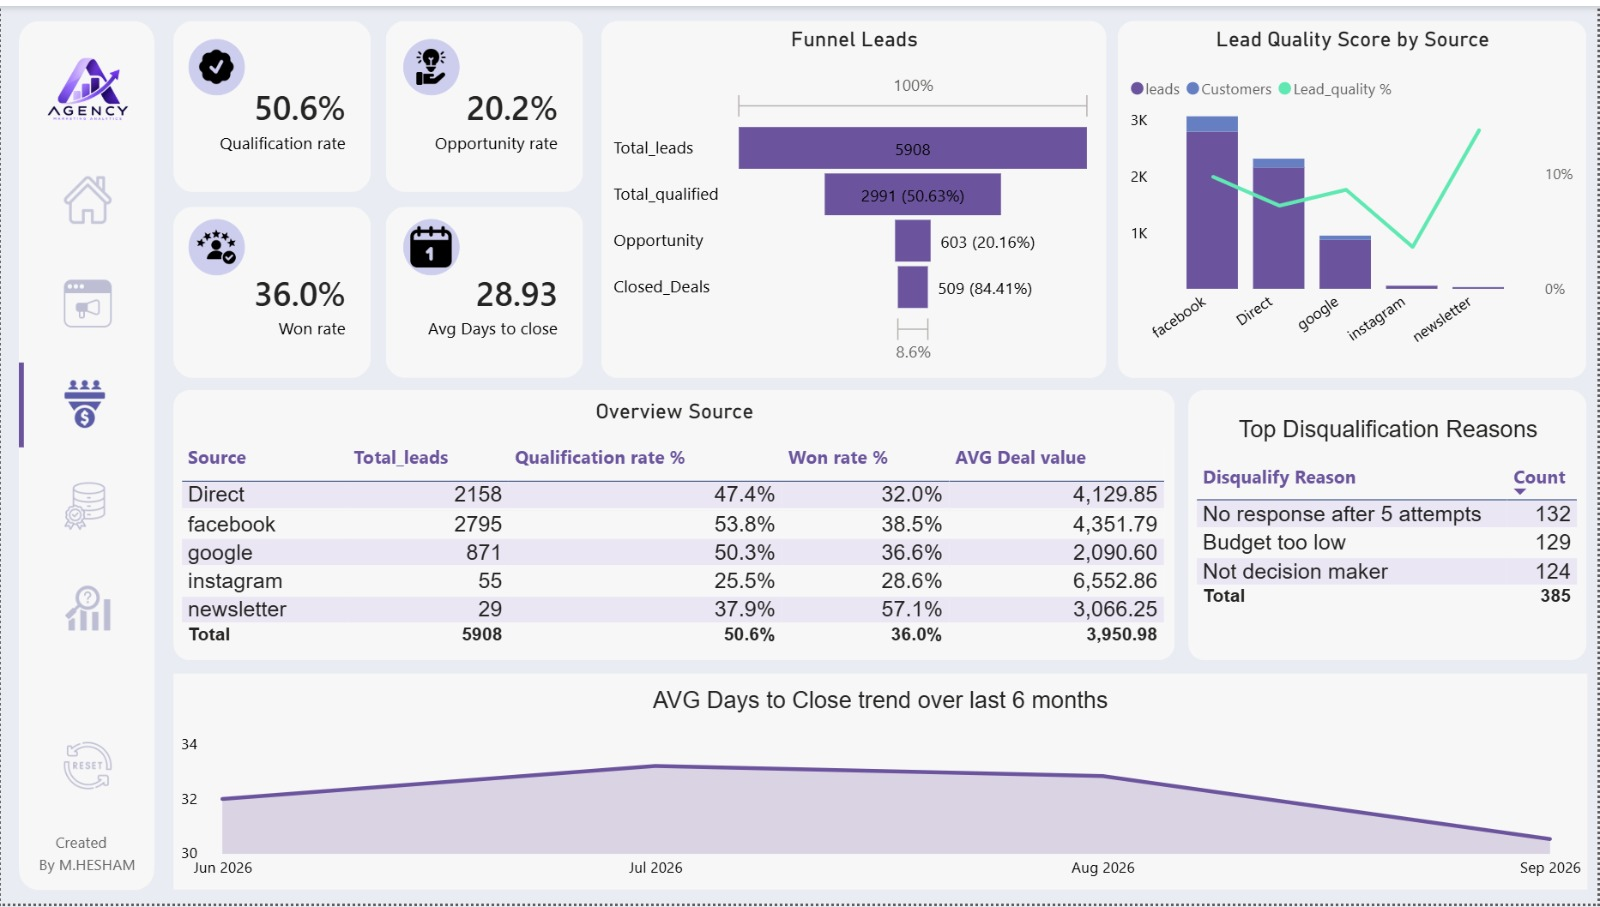

The dashboard page shown, as its layout file describes it:
{"tool":"powerbi","page":{"name":"Funnel Health & Lead Quality","canvas":[1280,720],"ordinal":2},"visuals":[{"type":"group","id":"g1","title":"Group 2","box":[14.9,11.7,108.6,706.3],"z":0,"group":"g5"},{"type":"tableEx","title":"Top Disqualification Reasons","fields":{"Values":["dim_lead_attributes.Disqualify_Reason","CountNonNull(dim_lead_attributes.Disqualify_Reason)"]},"box":[951.8,308.5,319,216.6],"z":1000},{"type":"tableEx","title":"Overview Source","fields":{"Values":["dim_lead_attributes.Source","A_Measures.Total_leads","A_Measures.Qualification_rate %","A_Measures.Won_rate %","A_Measures.AVG_Deal_value"]},"box":[137.9,308.5,802.2,216.6],"z":2000},{"type":"funnel","title":"Funnel Leads","fields":{"Y":["A_Measures.Total_leads","A_Measures.Total_qualified","A_Measures.Opportunity","A_Measures.Closed_Deals"]},"box":[481.8,11.8,404.4,286.2],"z":3000},{"type":"shape","box":[14.9,11.7,108.6,697.1],"z":4000,"group":"g4"},{"type":"lineChart","title":"AVG Days to Close trend over last 6 months","fields":{"Category":["dim_calendar.Year_Month"],"Y":["A_Measures.AVG_Days_to_close"]},"box":[137.9,535.6,1133,173.3],"z":4000},{"type":"lineStackedColumnComboChart","title":" Lead Quality Score by Source","fields":{"Category":["dim_lead_attributes.Source"],"Y":["A_Measures.Total_leads","A_Measures.Customers"],"Y2":["A_Measures.Lead_quality %"]},"box":[895.4,11.8,375.5,286.2],"z":5000},{"type":"image","box":[50.4,133.9,38.1,42],"z":5000,"group":"g4"},{"type":"cardVisual","fields":{"Data":["A_Measures.Qualification_rate %","A_Measures.Opportunity_rate %","A_Measures.Win_rate %","A_Measures.AVG_Days_to_close"]},"box":[137.9,11.8,328.2,286.2],"z":6000,"group":"g3"},{"type":"image","box":[50.4,217.9,38.1,42],"z":6000,"group":"g4"},{"type":"image","box":[321.7,170.6,45,45],"z":7000,"group":"g2"},{"type":"image","box":[50.4,588.1,38.1,42],"z":7000,"group":"g4"},{"type":"image","box":[149.7,26.2,45,45],"z":8000,"group":"g2"},{"type":"image","box":[49.1,298,38.1,42],"z":8000,"group":"g4"},{"type":"image","box":[321.7,26.2,45,45],"z":9000,"group":"g2"},{"type":"image","box":[49.1,379.4,38.1,42],"z":9000,"group":"g4"},{"type":"image","box":[50.4,462.1,38.1,42],"z":9250,"group":"g4"},{"type":"pageNavigator","box":[14.9,129.9,106.3,383.4],"z":9500,"group":"g4"},{"type":"image","box":[149.7,170.6,45,45],"z":10000,"group":"g2"},{"type":"group","id":"g2","title":"Group 3","box":[149.7,26.2,217,189.4],"z":10001,"group":"g3"},{"type":"group","id":"g3","title":"Group 4","box":[137.9,11.8,328.2,286.2],"z":10002},{"type":"group","id":"g4","title":"Group 1","box":[14.9,11.7,108.6,697.1],"z":11000,"group":"g1"},{"type":"image","box":[28.8,24.9,81.4,80.1],"z":11000,"group":"g5"},{"type":"group","id":"g5","title":"Group 5","box":[14.9,11.7,108.6,706.3],"z":11001},{"type":"textbox","box":[15.7,655,105,63],"z":11500,"group":"g1"}]}

Visuals, with their boxes in screenshot pixels (x1, y1, x2, y2), scaled from the page's 1280x720 canvas onto the 1600x907 screenshot:
"Group 2" group: locate(19, 15, 154, 904)
"Top Disqualification Reasons" tableEx: locate(1190, 389, 1588, 661)
"Overview Source" tableEx: locate(172, 389, 1175, 661)
"Funnel Leads" funnel: locate(602, 15, 1108, 375)
shape: locate(19, 15, 154, 893)
"AVG Days to Close trend over last 6 months" lineChart: locate(172, 675, 1589, 893)
" Lead Quality Score by Source" lineStackedColumnComboChart: locate(1119, 15, 1589, 375)
image: locate(63, 169, 111, 222)
cardVisual - A_Measures.Qualification_rate % x A_Measures.Opportunity_rate %: locate(172, 15, 583, 375)
image: locate(63, 274, 111, 327)
image: locate(402, 215, 458, 272)
image: locate(63, 741, 111, 794)
image: locate(187, 33, 243, 90)
image: locate(61, 375, 109, 428)
image: locate(402, 33, 458, 90)
image: locate(61, 478, 109, 531)
image: locate(63, 582, 111, 635)
pageNavigator: locate(19, 164, 152, 647)
image: locate(187, 215, 243, 272)
"Group 3" group: locate(187, 33, 458, 272)
"Group 4" group: locate(172, 15, 583, 375)
"Group 1" group: locate(19, 15, 154, 893)
image: locate(36, 31, 138, 132)
"Group 5" group: locate(19, 15, 154, 904)
textbox: locate(20, 825, 151, 904)
